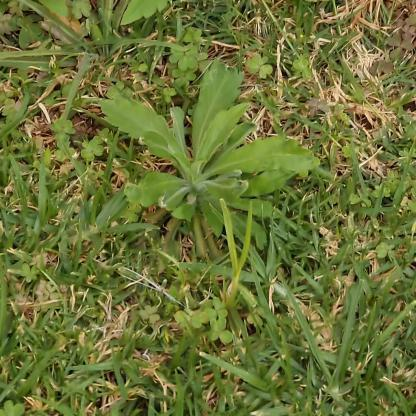Weeds: (101, 57, 320, 253)
